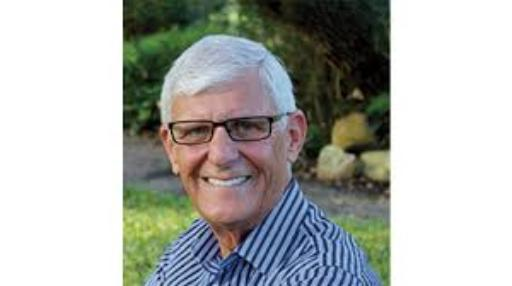left_eye: (234, 123, 264, 134)
left_lip_corner: (240, 172, 255, 183)
right_eye: (183, 125, 210, 140)
right_lip_corner: (198, 174, 211, 185)
